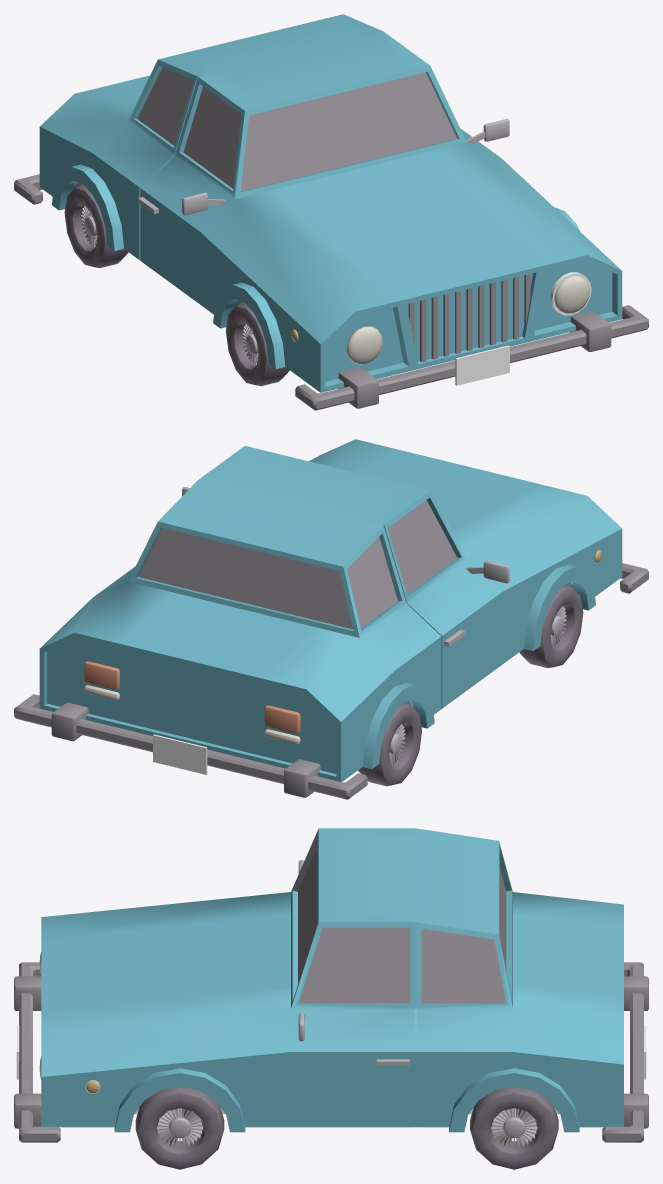
Rendered from car_lowpoly.glb.
3 views of the same model, one above another, from view 1: azimuth 30°, elevation 25°; view 2: azimuth 150°, elevation 25°; view 3: azimuth 270°, elevation 25° (orthographic). The views are drawn at different scales.
Visible parts, largest first — view 1: Cube_2_2, Cube_6_2, Tube_2, Tube, Tube_1, Tube_1_2, Cube_7, Sphere_2, Cube, Cube_3, Cube_9_2; view 2: Cube_2_2, Cube_9_2, Tube_2, Tube, Tube_1_2, Tube_1, Cube_8, Cube_4, Cube_10, Cube_5, Cube_6_2, Cube_3; view 3: Cube_2_2, Tube_2, Tube, Tube_1, Tube_1_2, Cube_6_2, Cube_9_2, Cube_7, Cube_8.
Boxes of the visible parts, left/top/right/bottom form: Cube_2_2: left=39, top=14, right=622, bottom=392; Cube_6_2: left=295, top=305, right=648, bottom=410; Tube_2: left=225, top=302, right=289, bottom=386; Tube: left=64, top=184, right=128, bottom=268; Tube_1: left=213, top=207, right=580, bottom=368; Tube_1_2: left=52, top=164, right=123, bottom=250; Cube_7: left=338, top=311, right=611, bottom=408; Sphere_2: left=346, top=275, right=589, bottom=364; Cube: left=455, top=345, right=509, bottom=385; Cube_3: left=182, top=119, right=509, bottom=215; Cube_9_2: left=14, top=174, right=42, bottom=204; Cube_2_2: left=39, top=439, right=622, bottom=782; Cube_9_2: left=14, top=694, right=367, bottom=799; Tube_2: left=519, top=584, right=583, bottom=668; Tube: left=358, top=702, right=421, bottom=786; Tube_1_2: left=362, top=682, right=434, bottom=769; Tube_1: left=524, top=564, right=595, bottom=650; Cube_8: left=51, top=702, right=320, bottom=797; Cube_4: left=84, top=661, right=300, bottom=733; Cube_10: left=153, top=734, right=207, bottom=774; Cube_5: left=84, top=685, right=300, bottom=744; Cube_6_2: left=620, top=563, right=648, bottom=593; Cube_3: left=182, top=487, right=509, bottom=583; Cube_2_2: left=41, top=828, right=623, bottom=1127; Tube_2: left=135, top=1087, right=224, bottom=1169; Tube: left=470, top=1087, right=558, bottom=1169; Tube_1: left=114, top=1068, right=245, bottom=1132; Tube_1_2: left=449, top=1068, right=579, bottom=1132; Cube_6_2: left=19, top=962, right=60, bottom=1142; Cube_9_2: left=602, top=962, right=643, bottom=1142; Cube_7: left=14, top=976, right=41, bottom=1128; Cube_8: left=624, top=976, right=648, bottom=1128.
Bounding box in the file's own units: 2.9 × 1.72 × 4.58.
